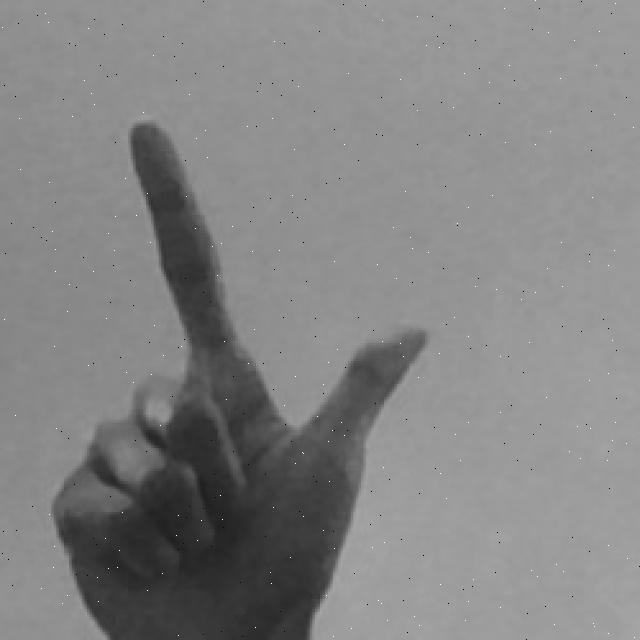L: (44, 112, 433, 640)
